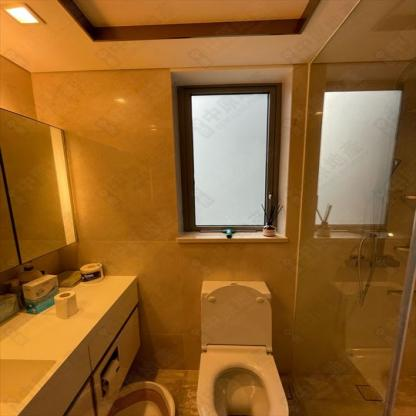Toilet: (197, 279, 287, 413)
Toilet Sink: (0, 357, 57, 415)
